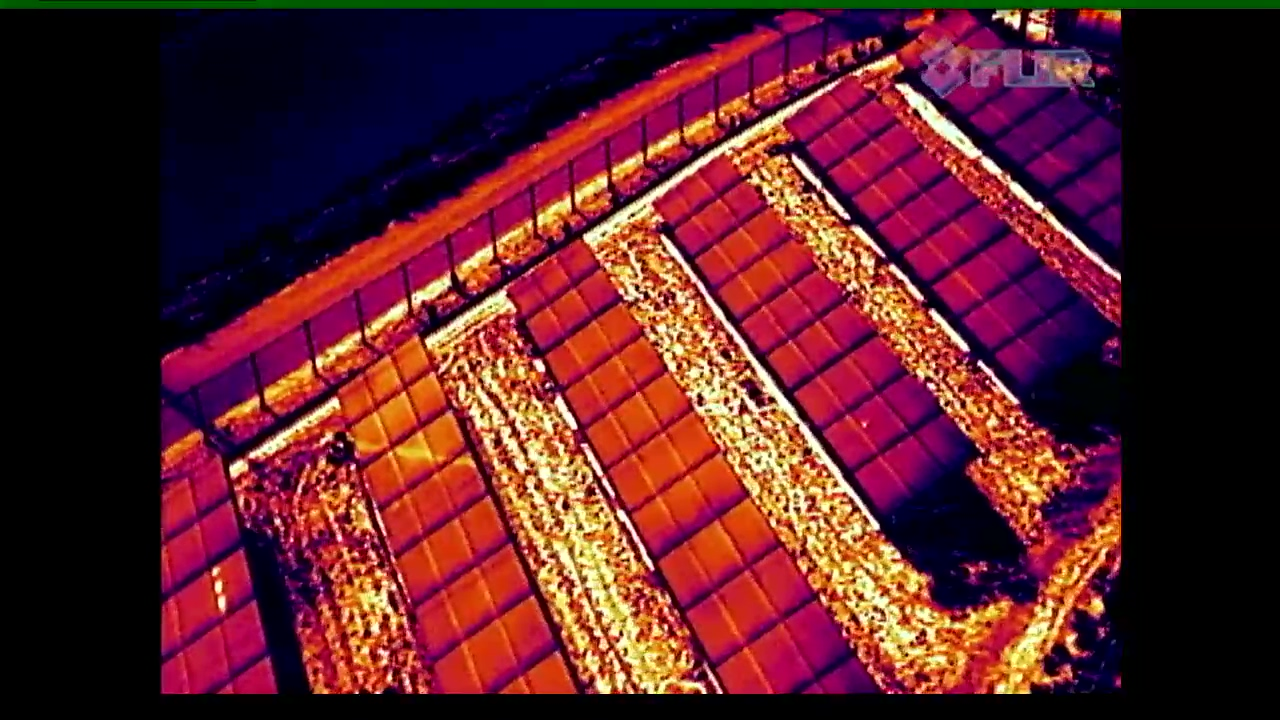hotspot: (811, 372, 936, 466)
